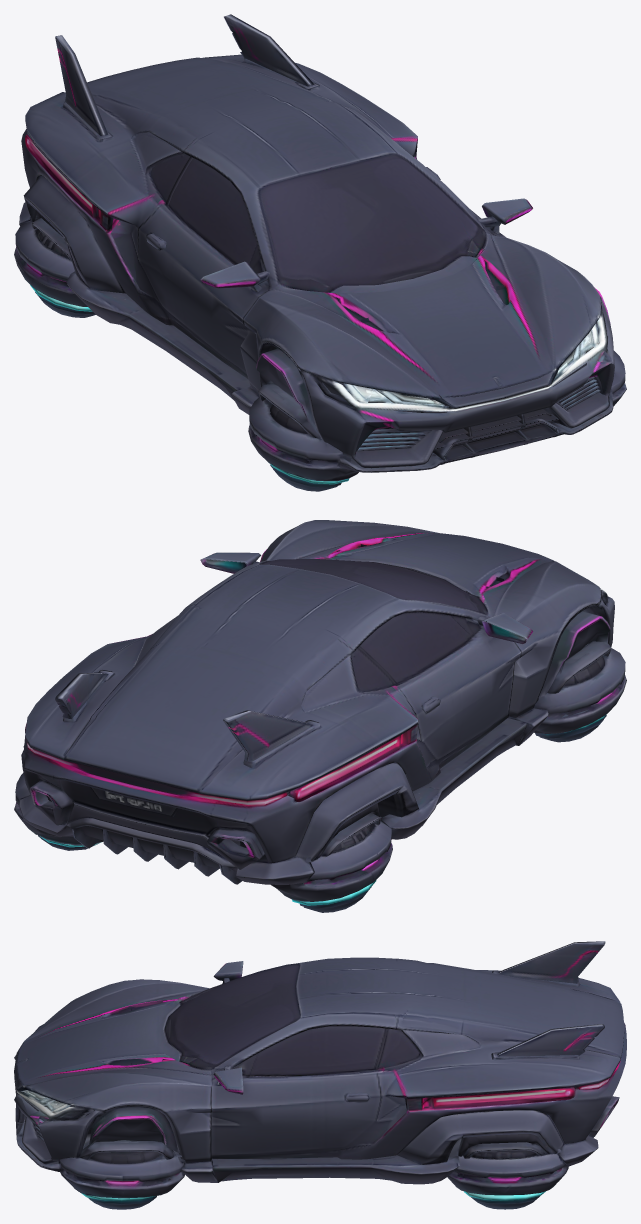
Rendered from car_sedan.glb.
3 renders of one model, top to bottom at view 1: azimuth 30°, elevation 25°; view 2: azimuth 150°, elevation 25°; view 3: azimuth 270°, elevation 25°, orthographic. The views are drawn at different scales.
Visible parts, largest first — view 1: tripo_node_a7ad818f-1928-4643-8b12-6cf57788988f; view 2: tripo_node_a7ad818f-1928-4643-8b12-6cf57788988f; view 3: tripo_node_a7ad818f-1928-4643-8b12-6cf57788988f.
Part boxes in pixels (x1,y1,x2,y2): tripo_node_a7ad818f-1928-4643-8b12-6cf57788988f: [14, 14, 626, 491]; tripo_node_a7ad818f-1928-4643-8b12-6cf57788988f: [14, 520, 626, 912]; tripo_node_a7ad818f-1928-4643-8b12-6cf57788988f: [14, 941, 626, 1209].
Bounding box in the file's own units: 0.5366 × 0.3247 × 0.9995.
1 material, 1 textured.
